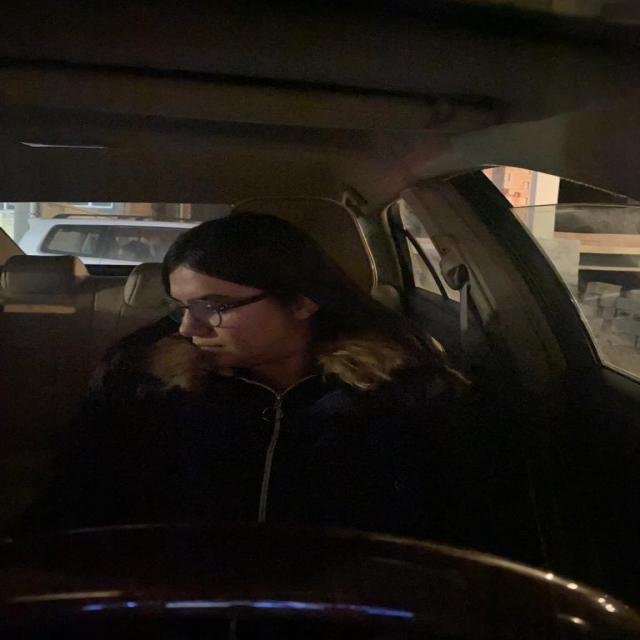LeftRight: (158, 208, 346, 366)
